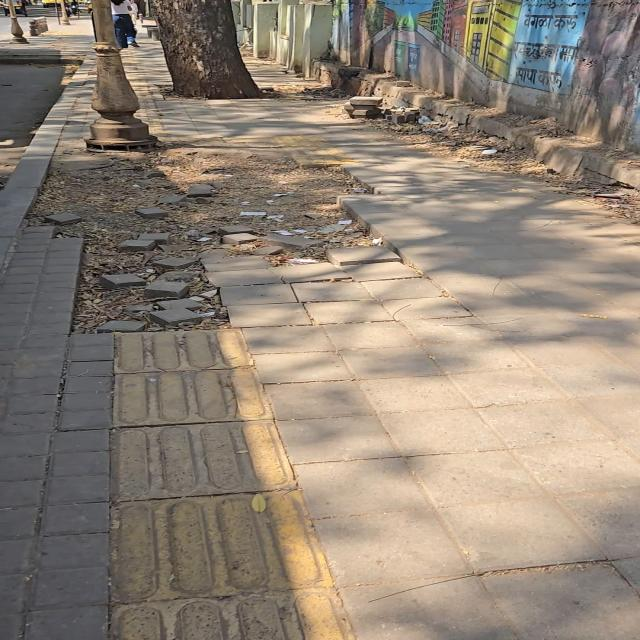obstacle: (24, 147, 412, 331), (86, 0, 156, 150), (111, 0, 138, 48), (8, 0, 28, 43), (128, 0, 139, 46), (60, 0, 69, 25), (69, 0, 78, 15), (55, 2, 61, 24)
